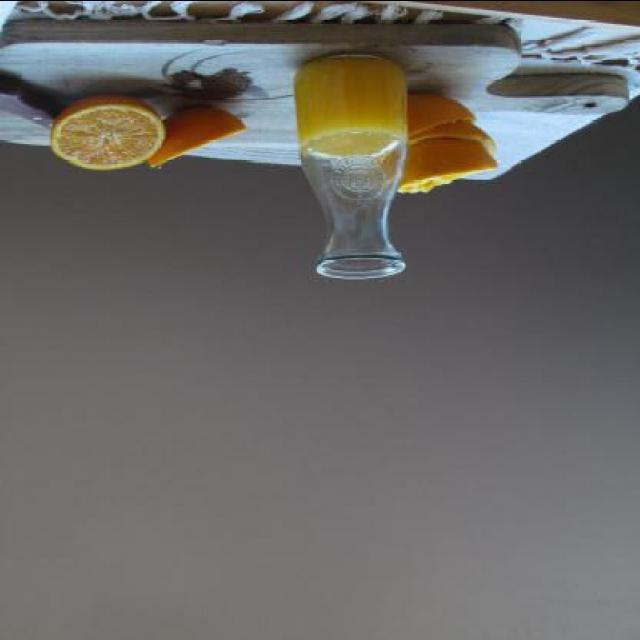Orange: (46, 89, 180, 166), (146, 102, 243, 166)
